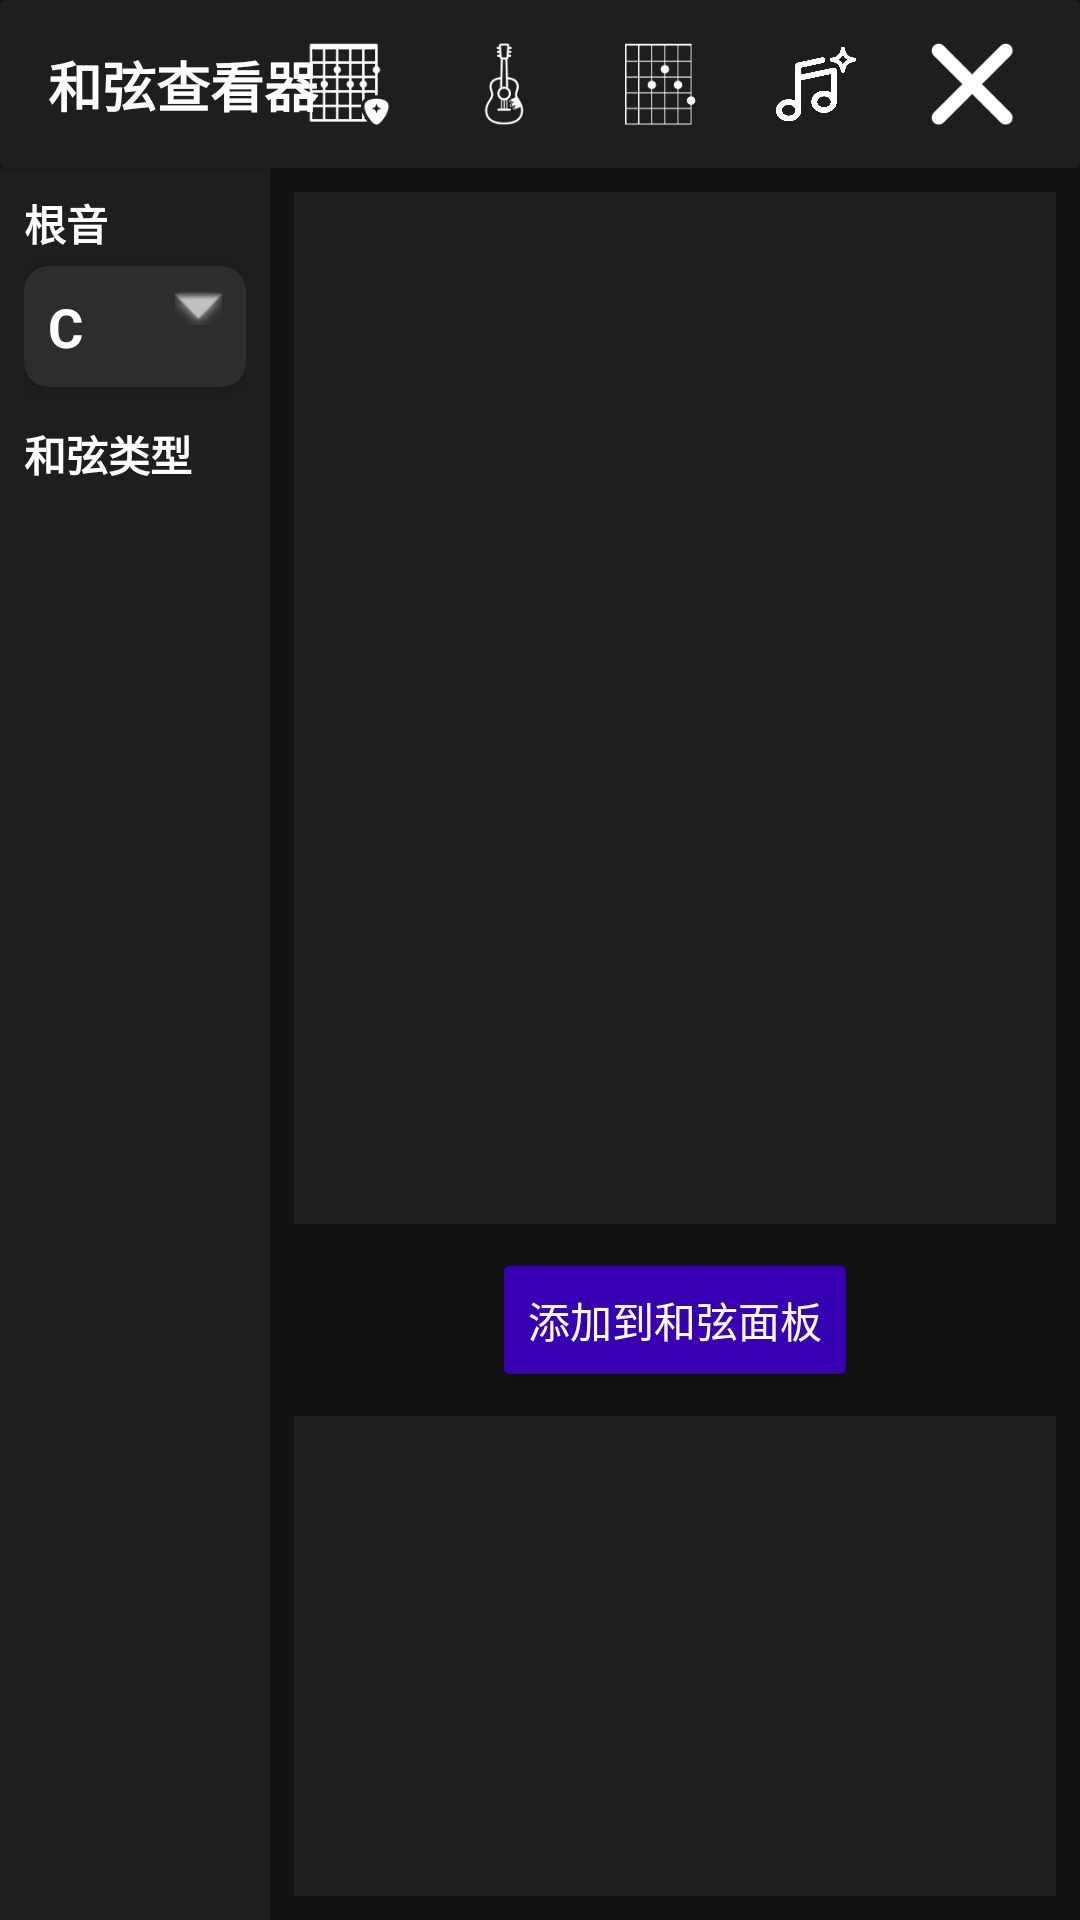

Point at icon controls on the screen. Image size 1080 × 1920, points as point (x, y).
arrow down float: point (198, 307)
close: point (972, 84)
fingerstyle: point (504, 84)
